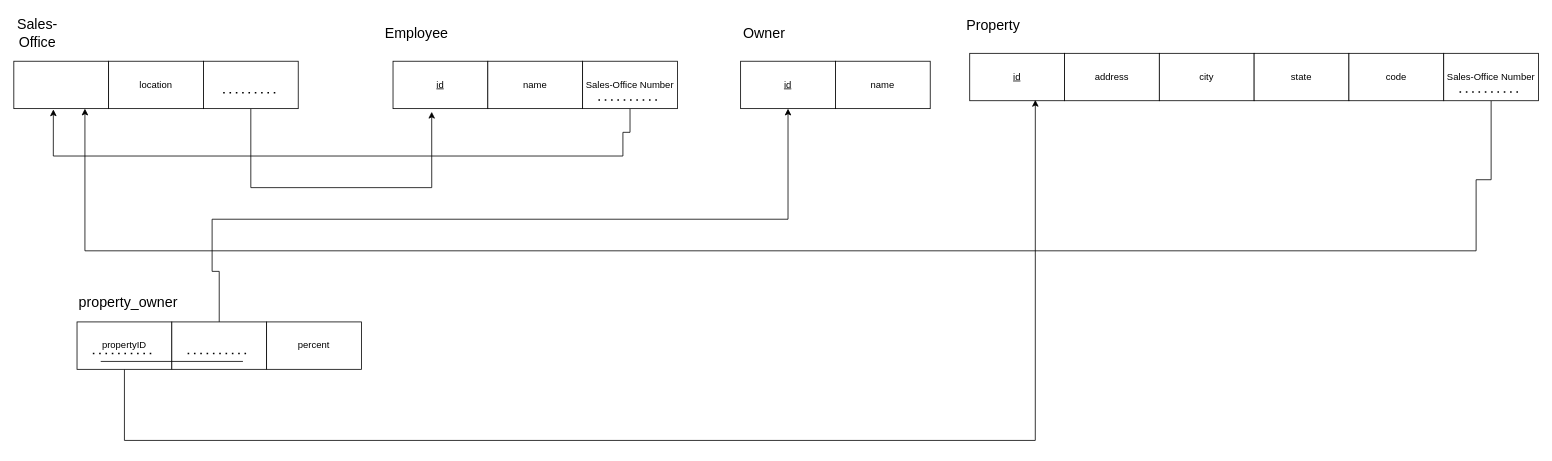
Image size: 1552x461. Some labels were removed from this diagram. Each missing label, with the centre of its shape:
EmployeeID: the point at 250,84
number: the point at 61,84
OwnerID: the point at 219,345
